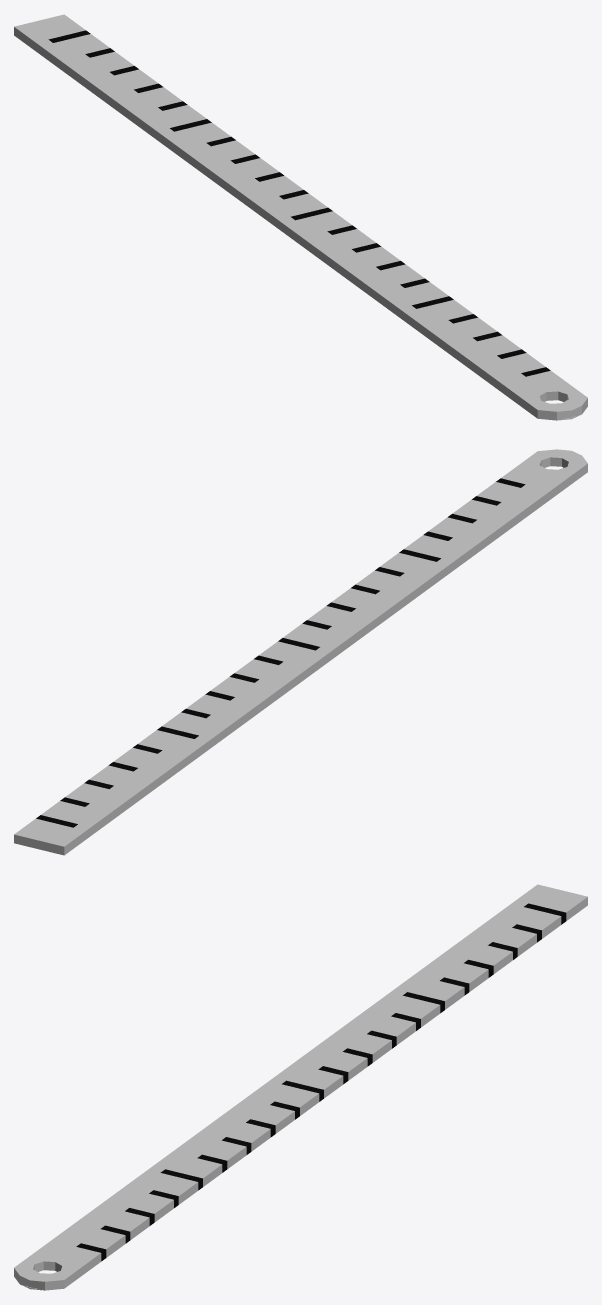
Rendered from ruler01.obj.
The picture shows the model from 3 angles, top to bottom: view 1: azimuth 30°, elevation 25°; view 2: azimuth 150°, elevation 25°; view 3: azimuth 330°, elevation 25°; orthographic projection.
Parts seen in each view (by area): view 1: Cube_Cube.002; view 2: Cube_Cube.002; view 3: Cube_Cube.002.
Boxes of the visible parts, x1=… form: Cube_Cube.002: x1=14, y1=14, x2=587, y2=420; Cube_Cube.002: x1=14, y1=449, x2=587, y2=855; Cube_Cube.002: x1=14, y1=884, x2=587, y2=1290.
Size of the model in its own units: 0.012 by 0.002 by 0.22.
Materials: 1 (1 with a texture image).
